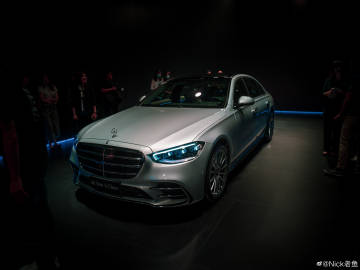other: (71, 67, 279, 216)
